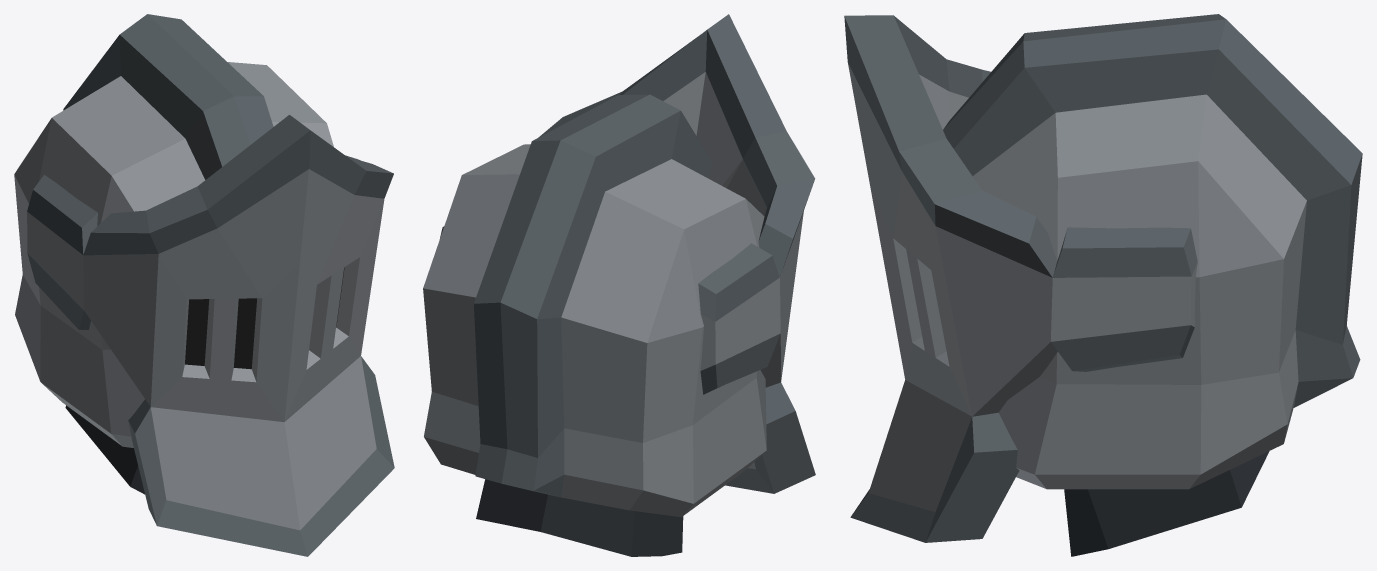
Rendered from Chr_Head_No_Elements_Male_05_Static.fbx.
The picture shows the model from 3 angles, left to right: view 1: azimuth 30°, elevation 25°; view 2: azimuth 150°, elevation 25°; view 3: azimuth 270°, elevation 25°; orthographic projection. The views are drawn at different scales.
Parts seen in each view (by area): view 1: Chr_Head_No_Elements_Male_05_Static; view 2: Chr_Head_No_Elements_Male_05_Static; view 3: Chr_Head_No_Elements_Male_05_Static.
Boxes of the visible parts, x1,y1,x2,y2 form: Chr_Head_No_Elements_Male_05_Static: [14, 14, 394, 556]; Chr_Head_No_Elements_Male_05_Static: [423, 14, 815, 556]; Chr_Head_No_Elements_Male_05_Static: [844, 14, 1362, 556].
Size of the model in its own units: 0.2598 by 0.3946 by 0.3533.
